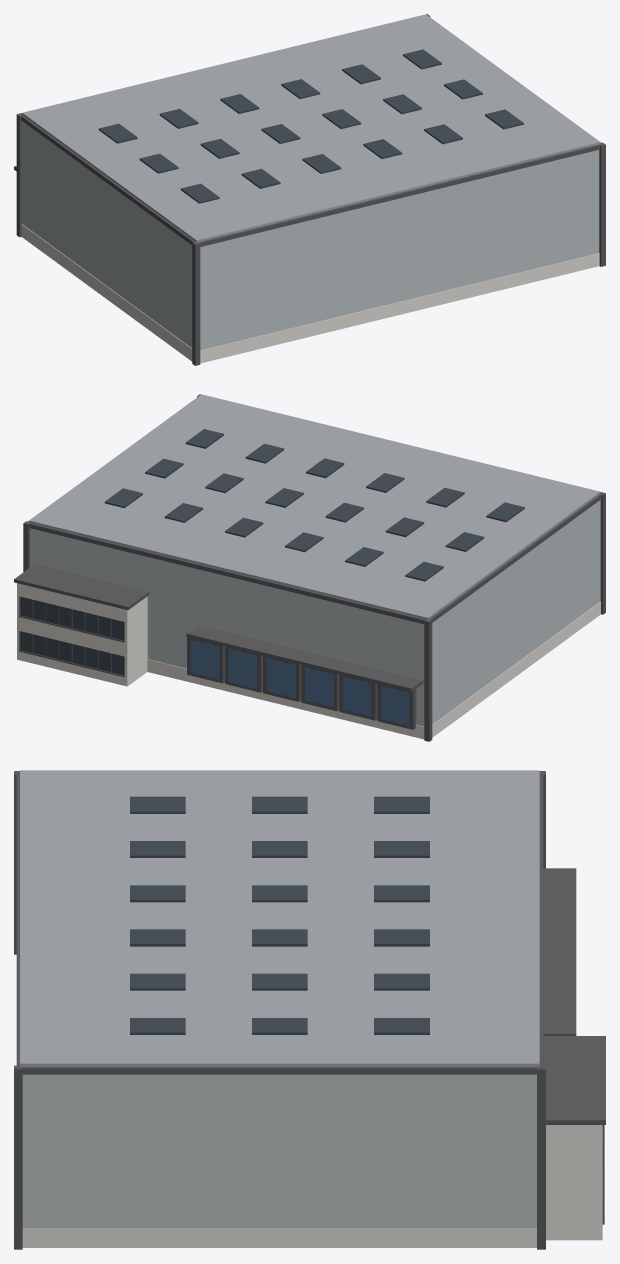
The model's file is warehouse.glb.
3 renders of one model, top to bottom at view 1: azimuth 30°, elevation 25°; view 2: azimuth 150°, elevation 25°; view 3: azimuth 270°, elevation 25°, orthographic. The views are drawn at different scales.
Parts seen in each view (by area): view 1: warehouse; view 2: warehouse; view 3: warehouse.
Part boxes in pixels (bbox=[...]): warehouse: bbox=[14, 14, 605, 365]; warehouse: bbox=[14, 394, 605, 741]; warehouse: bbox=[14, 770, 605, 1249].
Size of the model in its own units: 40.5 by 11.75 by 33.95.
